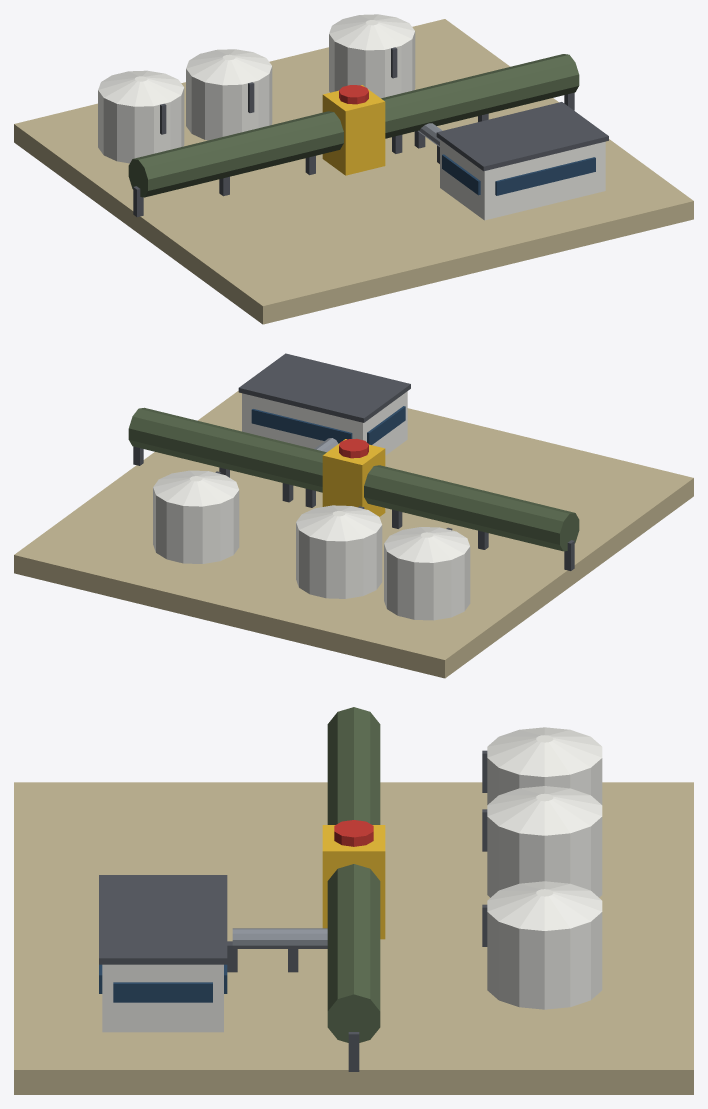
The model's file is oil_special_3.glb.
3 views of the same model, one above another, from view 1: azimuth 30°, elevation 25°; view 2: azimuth 150°, elevation 25°; view 3: azimuth 270°, elevation 25° (orthographic). The views are drawn at different scales.
Visible parts, largest first — view 1: oil_special_3; view 2: oil_special_3; view 3: oil_special_3.
Part boxes in pixels (x1,y1,x2,y2): oil_special_3: (14, 14, 693, 324); oil_special_3: (14, 353, 693, 678); oil_special_3: (14, 707, 693, 1094).
Bounding box in the file's own units: 1.99 × 0.39 × 1.96.
